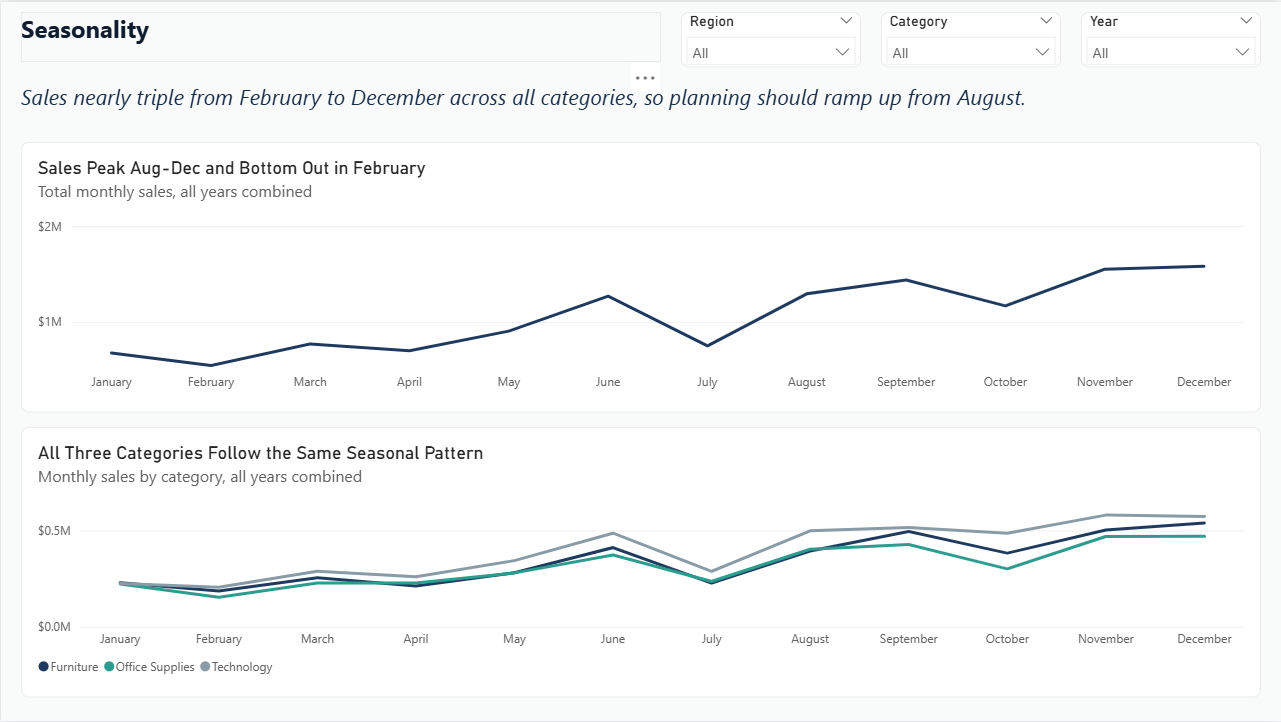

The page's visual inventory and layout, read from the dashboard file:
{"tool":"powerbi","page":{"name":"Seasonality","canvas":[1280,720],"ordinal":3},"visuals":[{"type":"lineChart","title":"Sales Peak Aug-Dec and Bottom Out in February","fields":{"Category":["superstore_project superstore_sales.order_date.Variation.Date Hierarchy.Month"],"Y":["Sum(superstore_project superstore_sales.sales)"]},"box":[20,140,1240,270],"z":0},{"type":"lineChart","title":"All Three Categories Follow the Same Seasonal Pattern","fields":{"Category":["superstore_project superstore_sales.order_date.Variation.Date Hierarchy.Month"],"Series":["superstore_project superstore_sales.category"],"Y":["Sum(superstore_project superstore_sales.sales)"]},"box":[20,425,1240,270],"z":1000},{"type":"textbox","box":[20,10,640,50],"z":2000},{"type":"textbox","box":[20,80,1240,50],"z":3000},{"type":"slicer","fields":{"Values":["superstore_project superstore_sales.region"]},"box":[680,10,180,55],"z":4000},{"type":"slicer","fields":{"Values":["superstore_project superstore_sales.category"]},"box":[880,10,180,55],"z":5000},{"type":"slicer","fields":{"Values":["superstore_project superstore_sales.year"]},"box":[1080,10,180,55],"z":6000}]}

Visuals, with their boxes in screenshot pixels (x1, y1, x2, y2), scaled from the page's 1280x720 canvas onto the 1281x722 screenshot:
"Sales Peak Aug-Dec and Bottom Out in February" lineChart: bbox=(20, 140, 1261, 411)
"All Three Categories Follow the Same Seasonal Pattern" lineChart: bbox=(20, 426, 1261, 697)
textbox: bbox=(20, 10, 661, 60)
textbox: bbox=(20, 80, 1261, 130)
slicer - superstore_project superstore_sales.region: bbox=(681, 10, 861, 65)
slicer - superstore_project superstore_sales.category: bbox=(881, 10, 1061, 65)
slicer - superstore_project superstore_sales.year: bbox=(1081, 10, 1261, 65)
